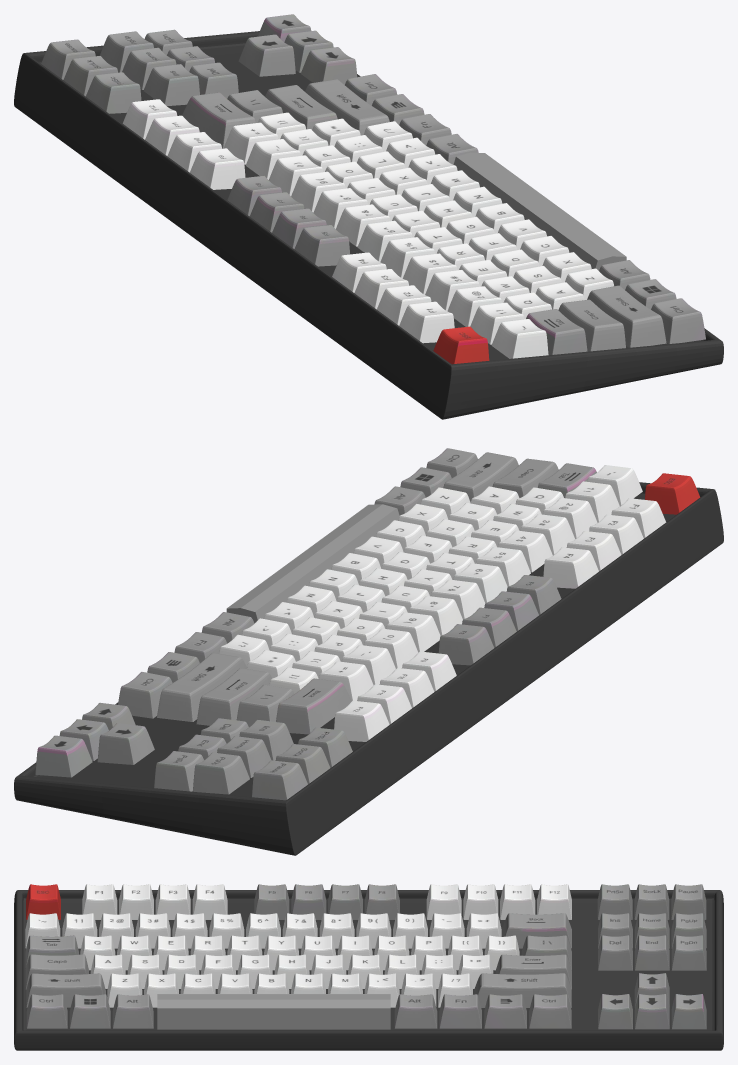
The model's file is tkl_keyboard_white_grey_red-transformed.glb.
The picture shows the model from 3 angles, top to bottom: view 1: azimuth 30°, elevation 25°; view 2: azimuth 150°, elevation 25°; view 3: azimuth 270°, elevation 25°; orthographic projection. The views are drawn at different scales.
Parts seen in each view (by area): view 1: Keyboard Body; view 2: Keyboard Body; view 3: Keyboard Body.
Boxes of the visible parts, x1,y1,x2,y2 form: Keyboard Body: (14, 14, 723, 419); Keyboard Body: (14, 448, 723, 855); Keyboard Body: (14, 884, 723, 1050).
Bounding box in the file's own units: 5.55 × 1.5 × 14.78.
Materials: 2 (1 with a texture image).
